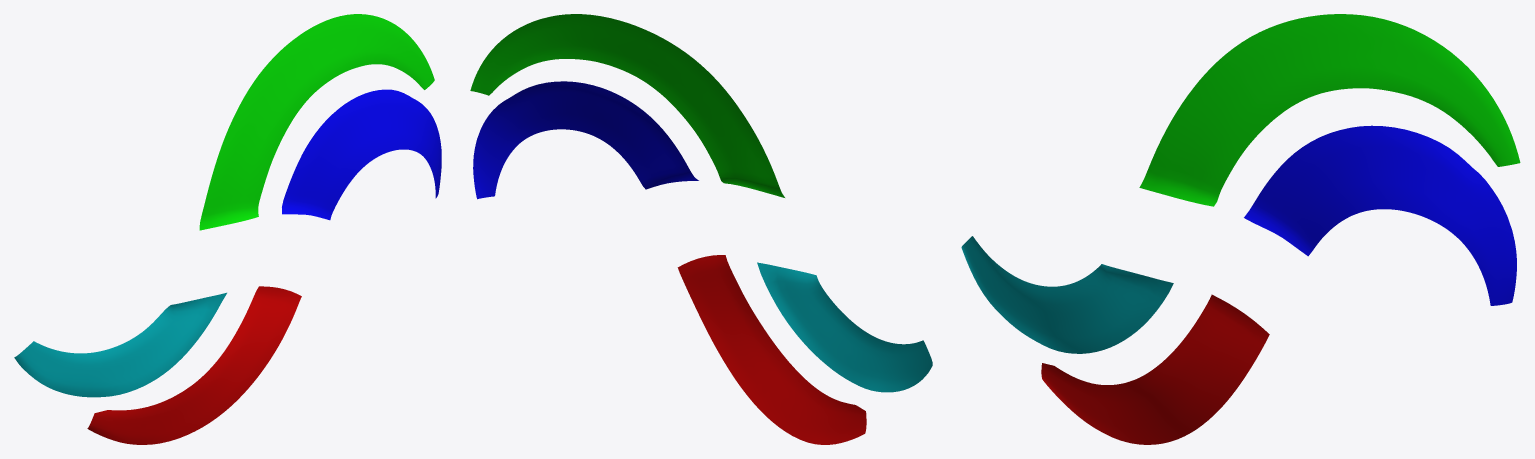
3 renders of one model, left to right at view 1: azimuth 30°, elevation 25°; view 2: azimuth 150°, elevation 25°; view 3: azimuth 330°, elevation 25°, orthographic. The views are drawn at different scales.
Visible parts, largest first — view 1: UV_2, UV_1, UV_3, UV_4; view 2: UV_2, UV_3, UV_1, UV_4; view 3: UV_2, UV_1, UV_3, UV_4.
Part boxes in pixels (x1,y1,x2,y2): UV_2: (199, 14, 434, 230); UV_1: (282, 89, 441, 220); UV_3: (87, 286, 301, 444); UV_4: (14, 292, 226, 397); UV_2: (470, 14, 784, 197); UV_3: (677, 255, 866, 444); UV_1: (473, 81, 698, 199); UV_4: (757, 262, 932, 392); UV_2: (1139, 14, 1520, 206); UV_1: (1244, 125, 1516, 305); UV_3: (1041, 294, 1269, 444); UV_4: (961, 236, 1173, 353).
Size of the model in its own units: 23.26 by 19 by 3.19.
Materials: 4 (4 with a texture image).
